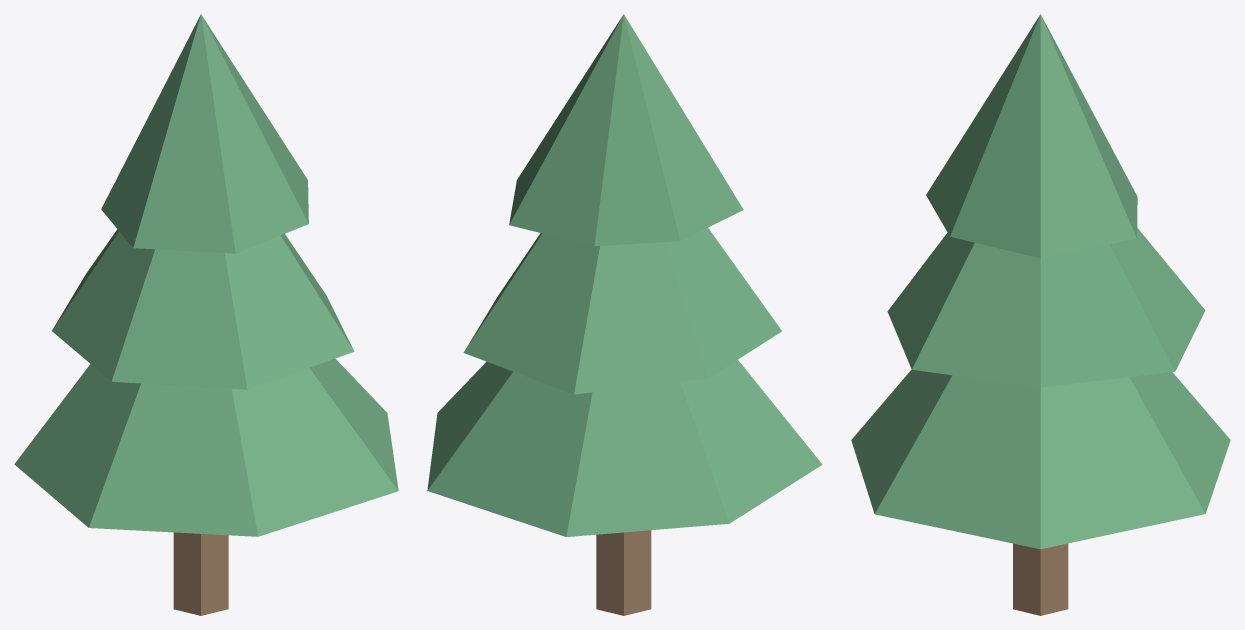
Rendered from pine_tree.glb.
3 renders of one model, left to right at view 1: azimuth 30°, elevation 25°; view 2: azimuth 150°, elevation 25°; view 3: azimuth 270°, elevation 25°, orthographic.
Parts seen in each view (by area): view 1: tier0, tier1, tier2, PineTree; view 2: tier0, tier1, tier2, PineTree; view 3: tier0, tier1, tier2, PineTree.
Part boxes in pixels (x1=…): tier0: x1=14, y1=358, x2=398, y2=536; tier1: x1=52, y1=229, x2=354, y2=389; tier2: x1=101, y1=14, x2=308, y2=253; PineTree: x1=173, y1=532, x2=228, y2=615; tier0: x1=427, y1=360, x2=822, y2=536; tier1: x1=463, y1=227, x2=781, y2=394; tier2: x1=509, y1=14, x2=743, y2=246; PineTree: x1=596, y1=530, x2=651, y2=615; tier0: x1=851, y1=369, x2=1230, y2=549; tier1: x1=887, y1=228, x2=1205, y2=387; tier2: x1=926, y1=14, x2=1137, y2=258; PineTree: x1=1013, y1=543, x2=1068, y2=615.
Size of the model in its own units: 1.49 by 2.45 by 1.43.
